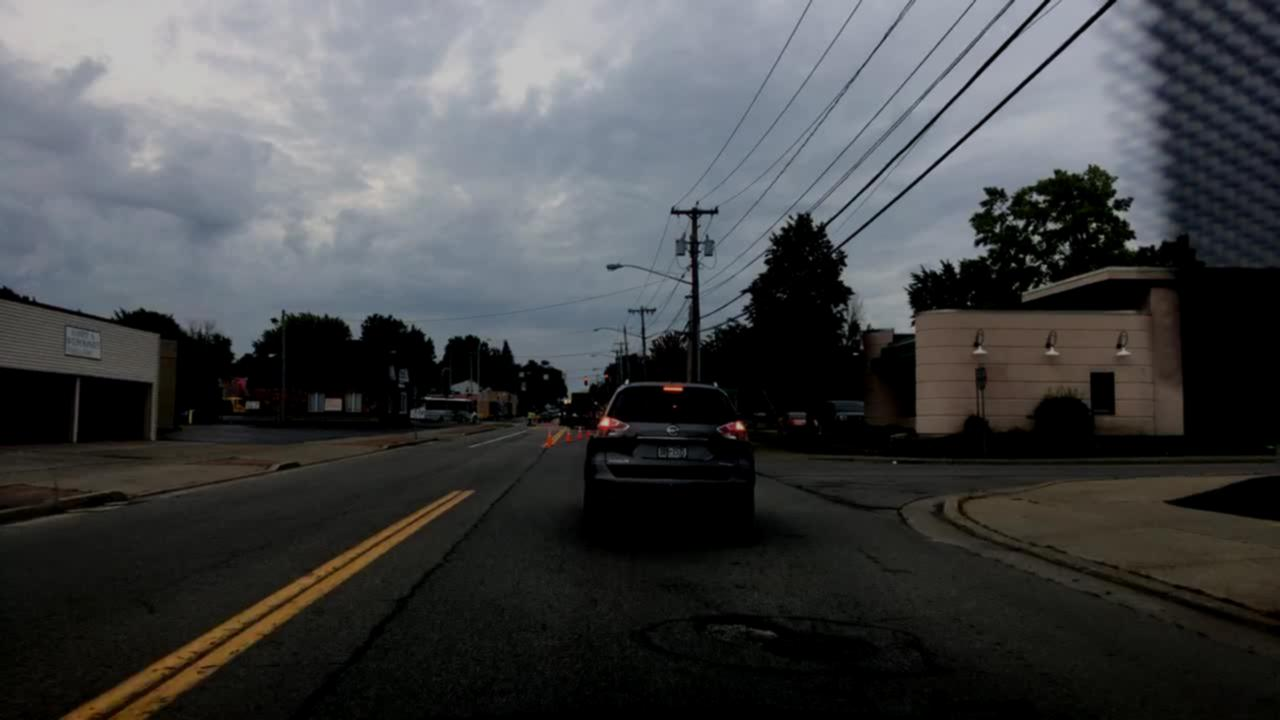Nissan: (664, 423, 682, 438)
